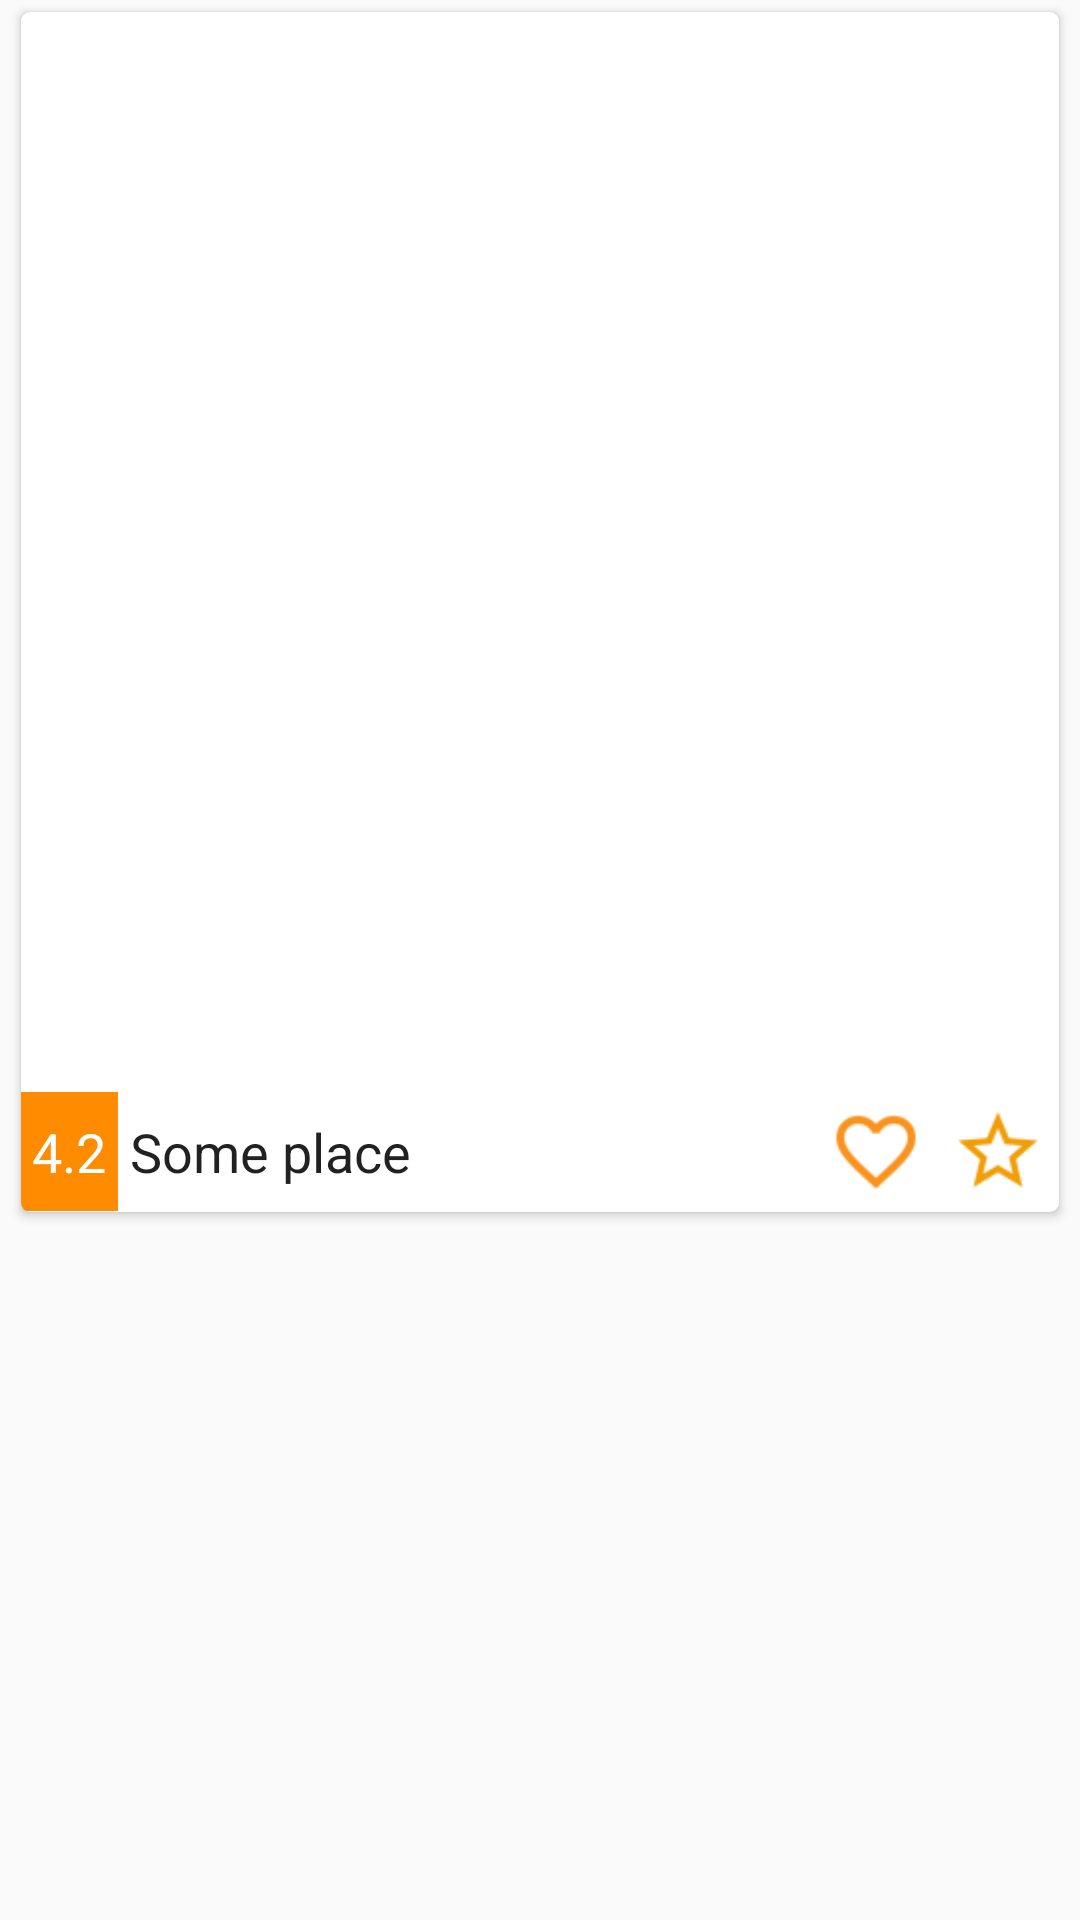

Screen size 1080px×1920px. Icon name, then its center in pixels as (x,y):
Mark business as favourite: (876,1152)
Rate this business: (998,1150)
